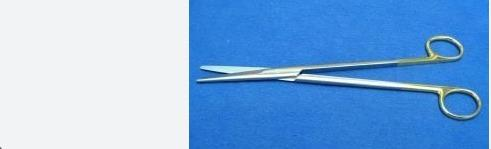Metzenbaum Sciccors: (198, 35, 483, 128)
